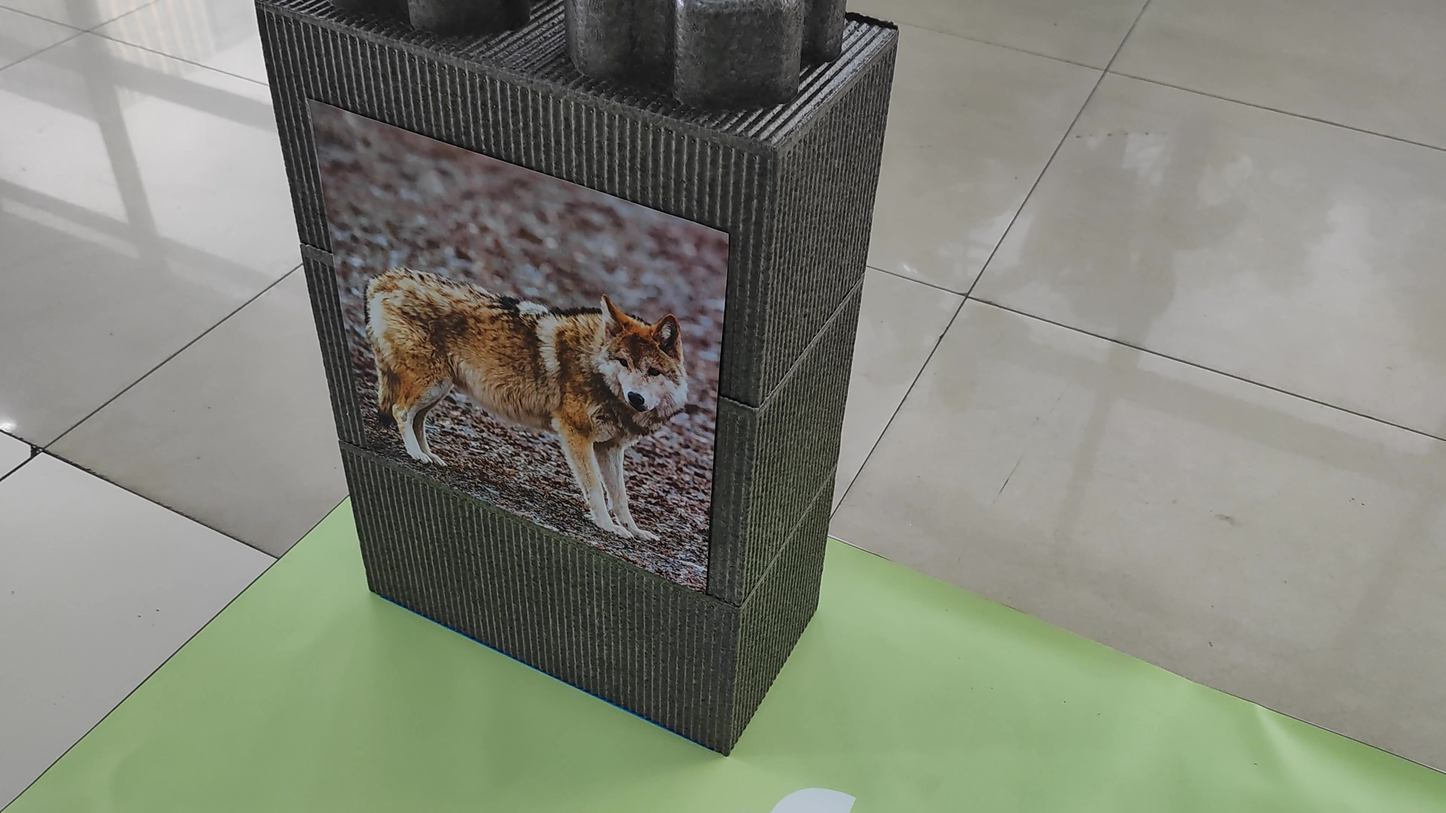wolf: (329, 206, 713, 560)
